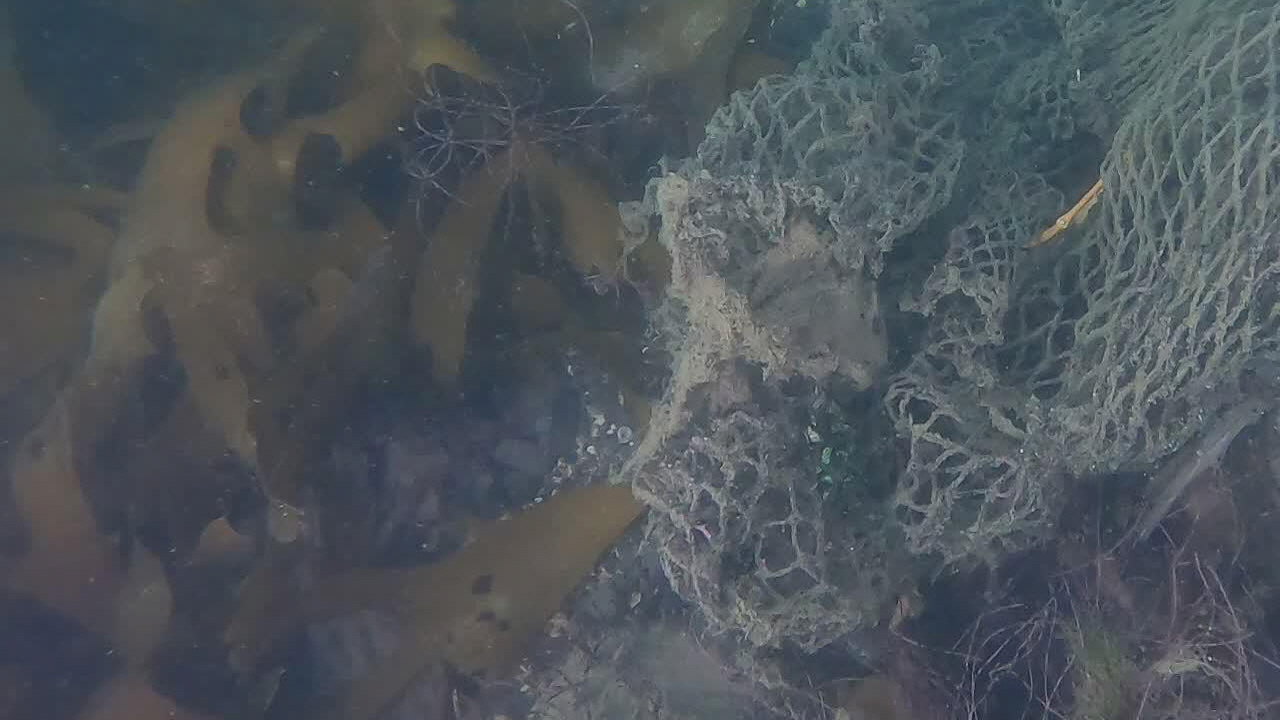fish net: (624, 0, 1280, 645)
